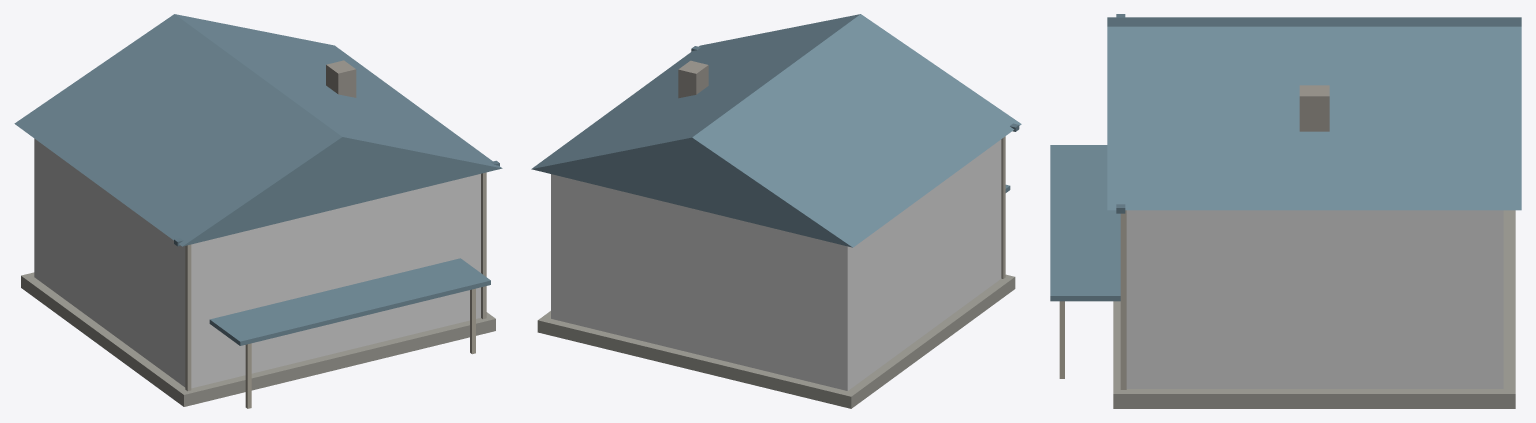
The picture shows the model from 3 angles, left to right: view 1: azimuth 30°, elevation 25°; view 2: azimuth 150°, elevation 25°; view 3: azimuth 270°, elevation 25°; orthographic projection. The views are drawn at different scales.
Parts seen in each view (by area): view 1: Visual; view 2: Visual; view 3: Visual.
Part boxes in pixels (left/top/right/bottom): Visual: left=14, top=14, right=502, bottom=408; Visual: left=531, top=14, right=1021, bottom=408; Visual: left=1050, top=14, right=1521, bottom=408.
Bounding box in the file's own units: 30.6 × 21.2 × 31.4.
